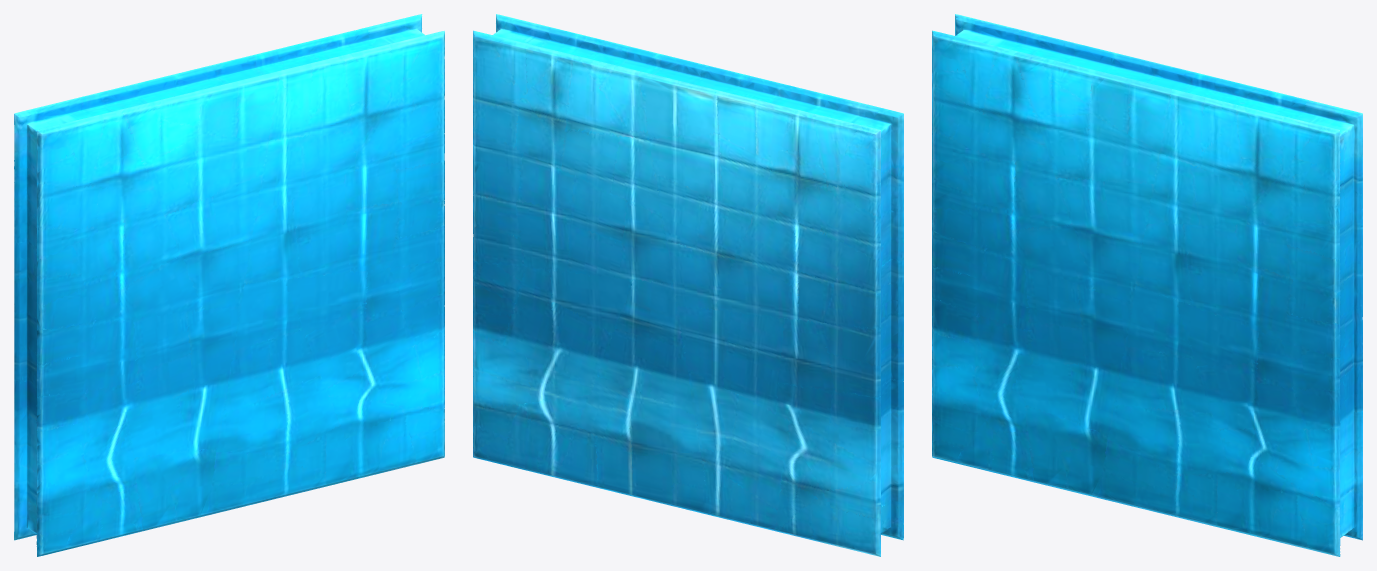
Rendered from water.glb.
3 views of the same model, side by side, from view 1: azimuth 30°, elevation 25°; view 2: azimuth 150°, elevation 25°; view 3: azimuth 330°, elevation 25° (orthographic).
Bounding box in the file's own units: 1.9 × 1.9 × 0.2159.
Materials: 1 (1 with a texture image).
